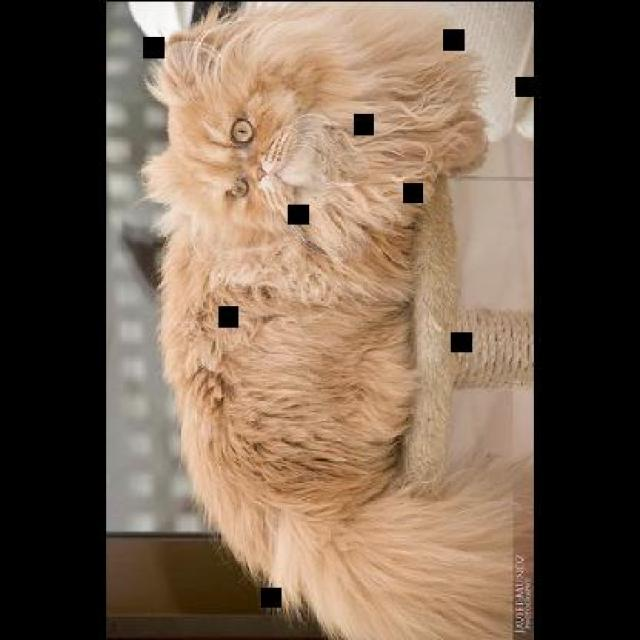unauthorized: (136, 0, 532, 638)
